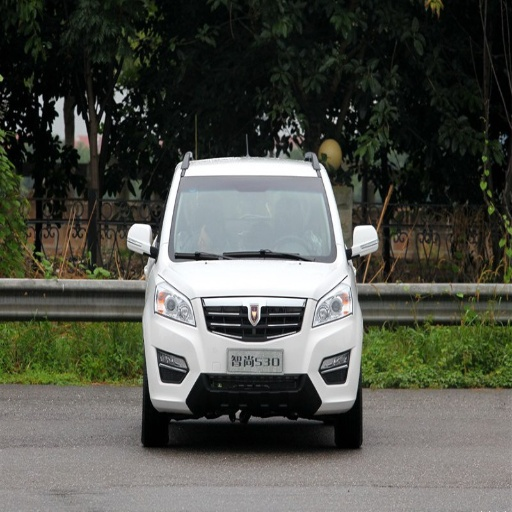front_bumper: (145, 296, 356, 417)
front_right_light: (153, 283, 195, 324)
hood: (160, 258, 347, 298)
